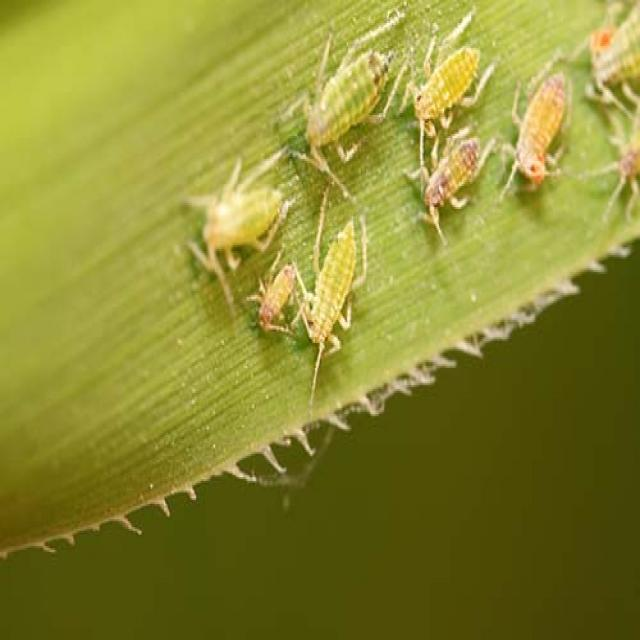Aphid-Grown-: (275, 19, 412, 182), (289, 191, 375, 364), (497, 47, 582, 213), (395, 10, 501, 138), (398, 127, 502, 246)
